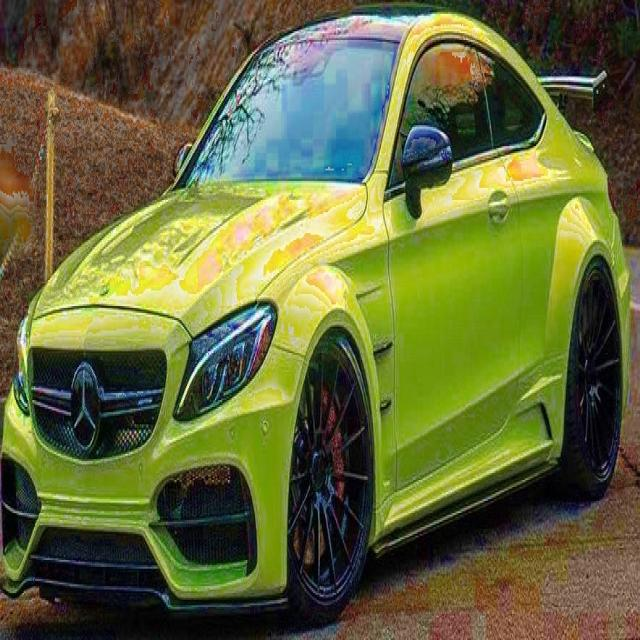green: (3, 9, 631, 624)
